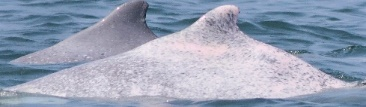fin: (8, 1, 171, 72)
